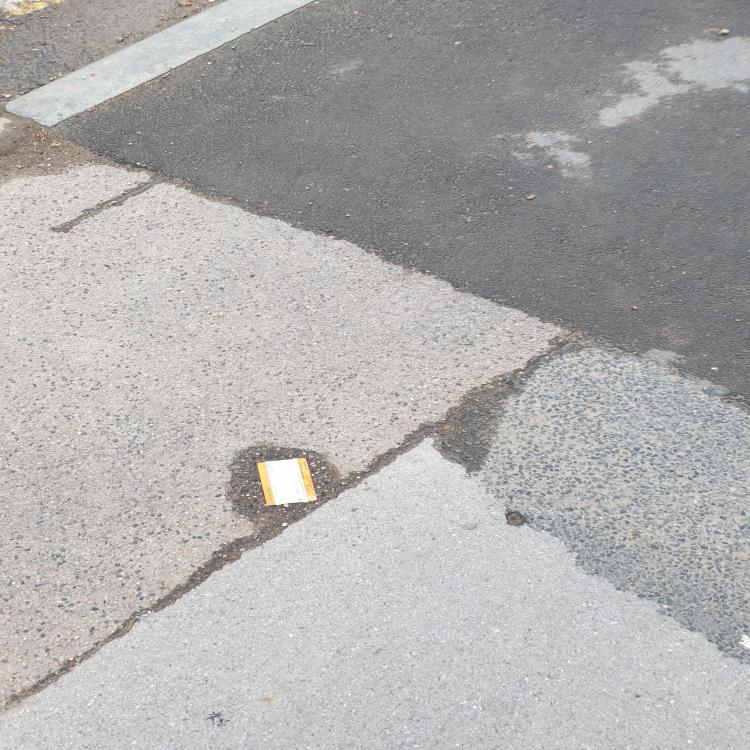Normal paper: (256, 459, 318, 506)
